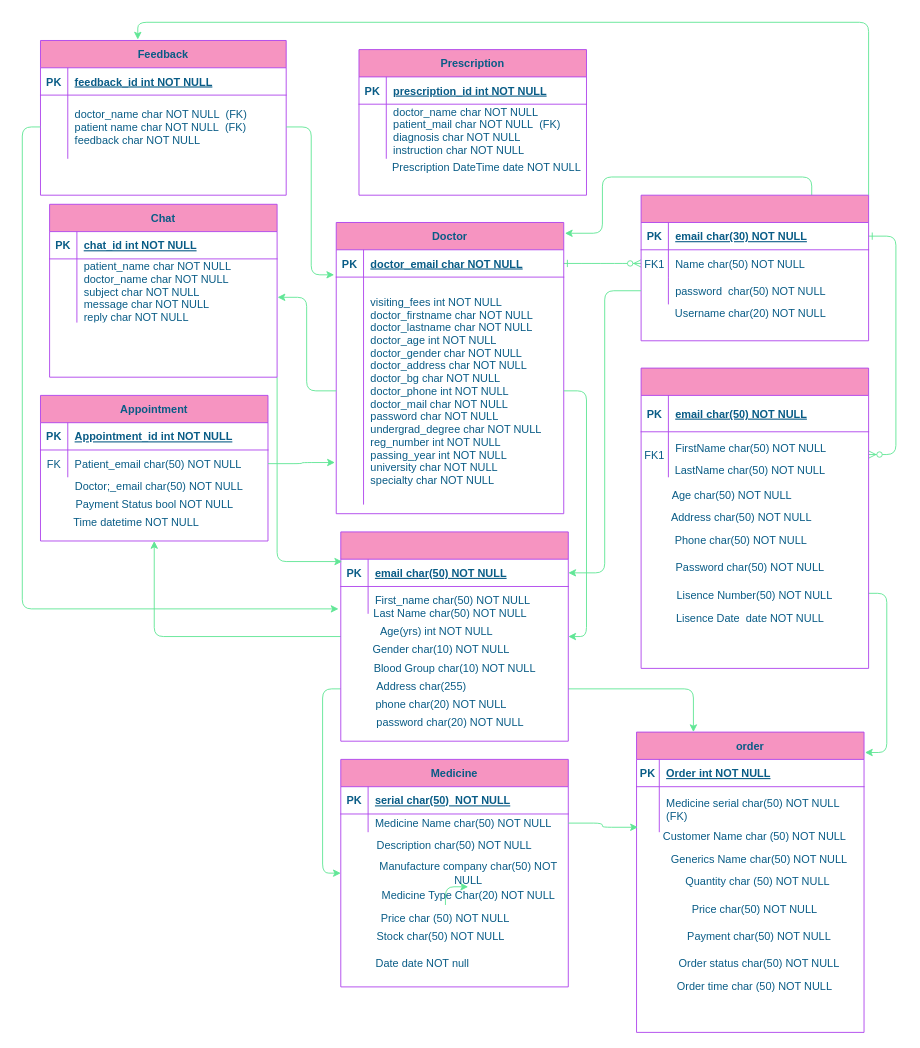
The diagram is 920 pixels wide and 1048 high, and some of its shapes have lost their labels. Each missing label, with the box of its shape:
Admin: (640, 194, 869, 341)
Patient: (340, 531, 568, 741)
Shop Manager: (640, 367, 869, 668)
